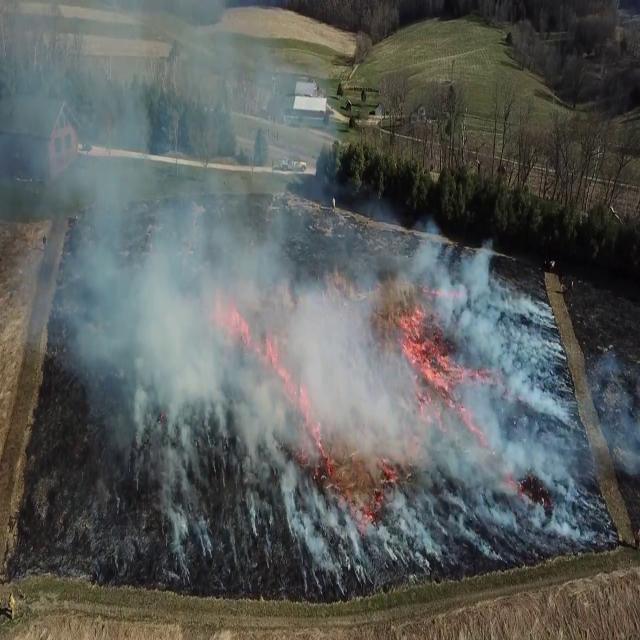Fire: (386, 266, 460, 406)
Smoke: (4, 11, 508, 569)
